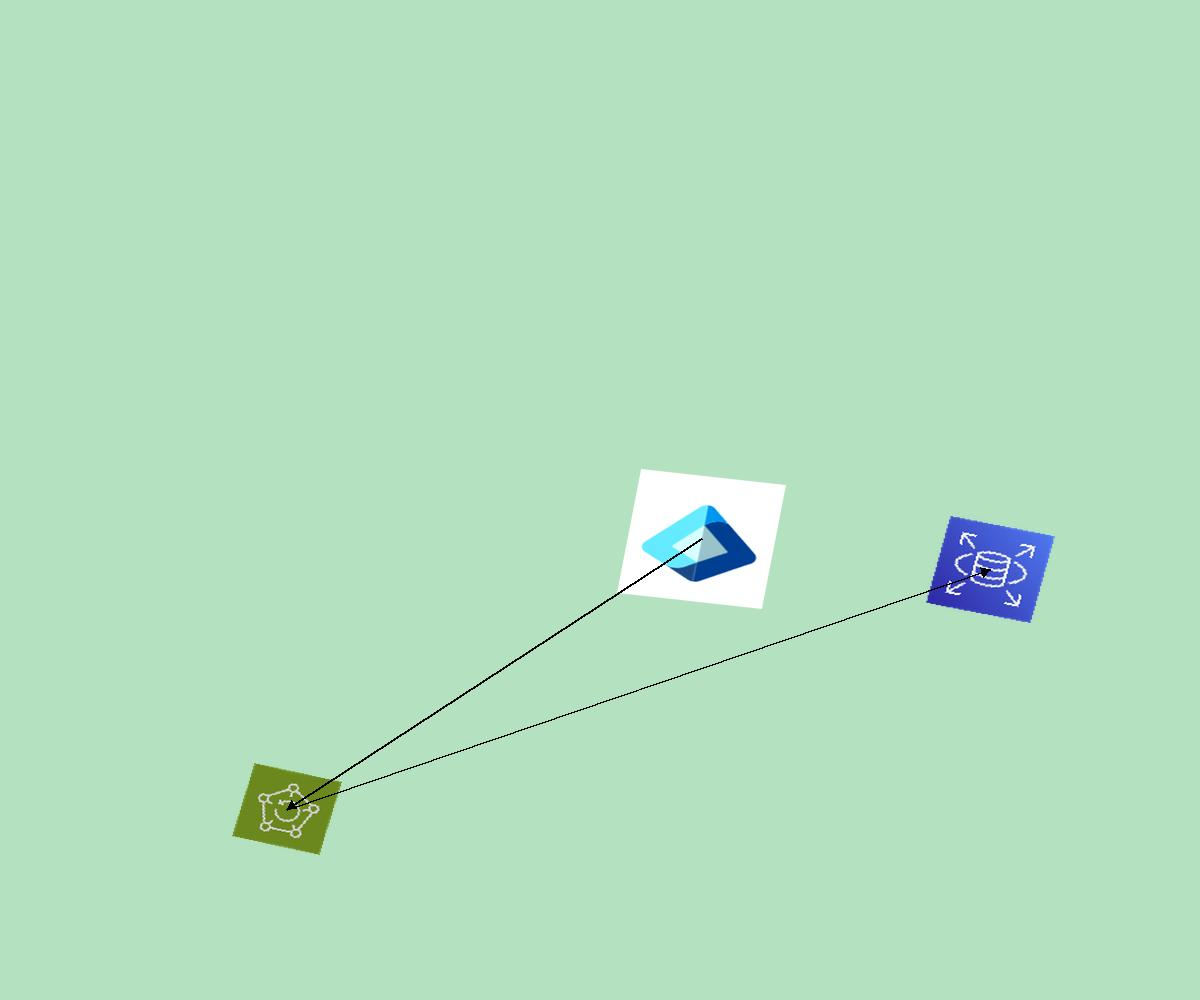AWS-Backup: (232, 763, 342, 855)
AWS-RDS: (925, 515, 1056, 624)
Azure_microsoft_entra: (617, 469, 786, 609)
